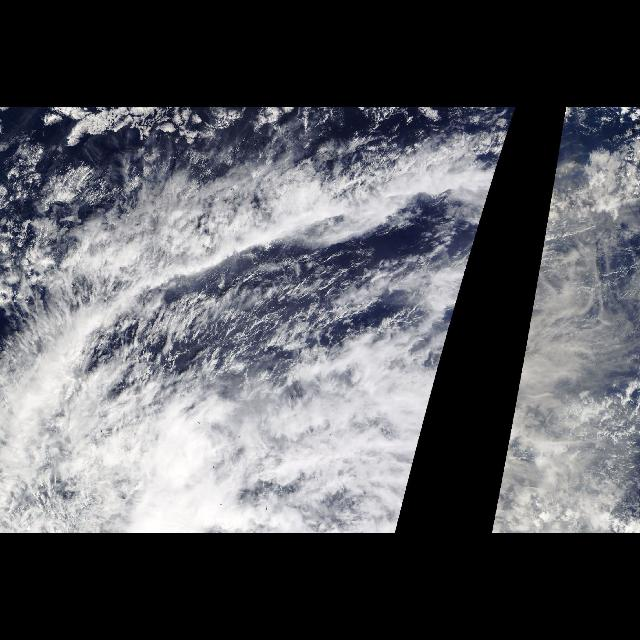Fish: (197, 160, 498, 278), (4, 214, 186, 388)
